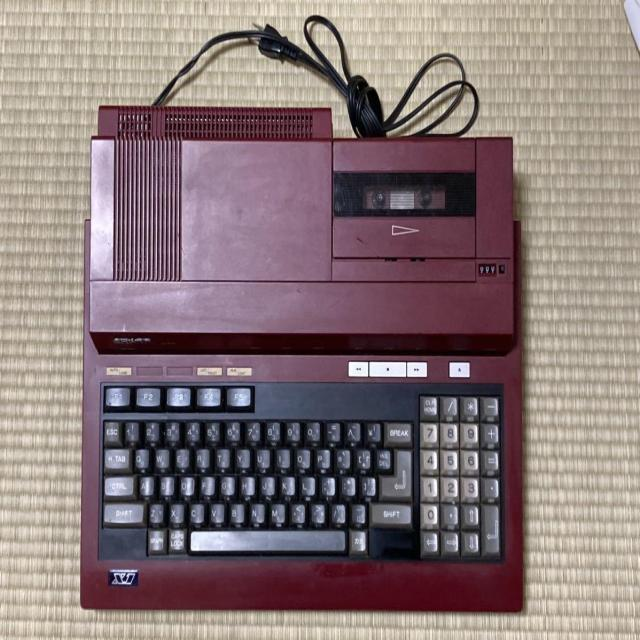keyboard: (97, 379, 506, 568)
